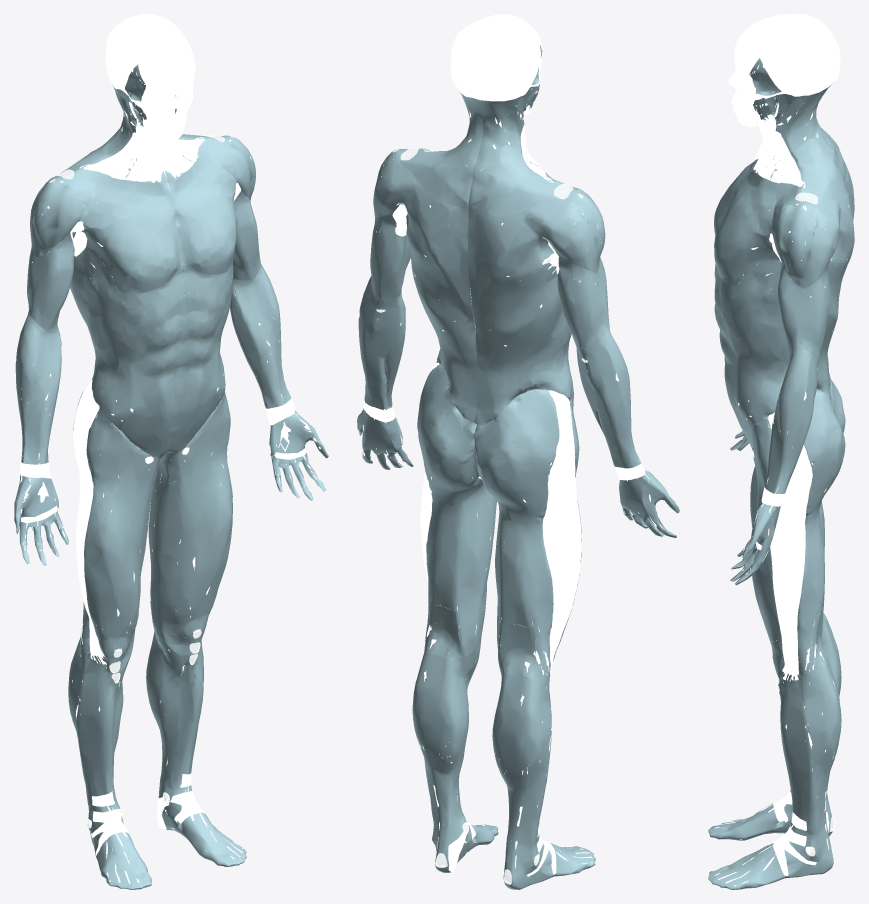
Rendered from muscular.lod1.glb.
3 renders of one model, left to right at view 1: azimuth 30°, elevation 25°; view 2: azimuth 150°, elevation 25°; view 3: azimuth 270°, elevation 25°, orthographic. The views are drawn at different scales.
Visible parts, largest first — view 1: Investing abdominal fascia.r, Fascia lata.l, Fascia lata.r, Crural fascia.l, Crural fascia.r, Pectoral fascia.r, Investing abdominal fascia.l, Pectoral fascia.l, Antebrachial fascia.r, Antebrachial fascia.l, Deltoid fascia.r, Brachial fascia.r (+13 smaller); view 2: Investing abdominal fascia.r, Fascia lata.r, Fascia lata.l, Crural fascia.r, Investing abdominal fascia.l, Crural fascia.l, Superficial investing cervical fascia.r, Iliotibial tract.r, Antebrachial fascia.r, Antebrachial fascia.l, Deltoid fascia.r, Superficial investing cervical fascia.l (+11 smaller); view 3: Investing abdominal fascia.l, Crural fascia.l, Fascia lata.l, Iliotibial tract.l, Deltoid fascia.l, Pectoral fascia.l, Superficial investing cervical fascia.l, Antebrachial fascia.l, Brachial fascia.l, Epicranial aponeurosis.l, Crural fascia.r, Temporoparietalis muscle.l (+13 smaller).
Boxes of the visible parts, x1=… form: Investing abdominal fascia.r: x1=70, y1=239, x2=184, y2=457; Fascia lata.l: x1=148, y1=392, x2=232, y2=638; Fascia lata.r: x1=72, y1=391, x2=165, y2=658; Crural fascia.l: x1=146, y1=622, x2=246, y2=866; Crural fascia.r: x1=68, y1=638, x2=151, y2=889; Pectoral fascia.r: x1=78, y1=178, x2=182, y2=294; Investing abdominal fascia.l: x1=167, y1=263, x2=233, y2=452; Pectoral fascia.l: x1=167, y1=158, x2=237, y2=274; Antebrachial fascia.r: x1=15, y1=315, x2=61, y2=464; Antebrachial fascia.l: x1=230, y1=263, x2=291, y2=408; Deltoid fascia.r: x1=30, y1=169, x2=113, y2=257; Brachial fascia.r: x1=27, y1=232, x2=74, y2=329; Investing abdominal fascia.r: x1=467, y1=207, x2=573, y2=426; Fascia lata.r: x1=473, y1=389, x2=581, y2=677; Fascia lata.l: x1=417, y1=364, x2=496, y2=657; Crural fascia.r: x1=492, y1=666, x2=595, y2=889; Investing abdominal fascia.l: x1=401, y1=177, x2=476, y2=424; Crural fascia.l: x1=412, y1=650, x2=498, y2=872; Superficial investing cervical fascia.r: x1=468, y1=86, x2=570, y2=216; Iliotibial tract.r: x1=542, y1=390, x2=581, y2=677; Antebrachial fascia.r: x1=575, y1=330, x2=641, y2=468; Antebrachial fascia.l: x1=358, y1=277, x2=405, y2=410; Deltoid fascia.r: x1=521, y1=173, x2=605, y2=274; Superficial investing cervical fascia.l: x1=399, y1=91, x2=483, y2=208; Investing abdominal fascia.l: x1=714, y1=195, x2=854, y2=448; Crural fascia.l: x1=708, y1=657, x2=841, y2=889; Fascia lata.l: x1=751, y1=389, x2=845, y2=674; Iliotibial tract.l: x1=768, y1=412, x2=812, y2=682; Deltoid fascia.l: x1=771, y1=183, x2=843, y2=288; Pectoral fascia.l: x1=714, y1=171, x2=776, y2=285; Superficial investing cervical fascia.l: x1=752, y1=83, x2=848, y2=205; Antebrachial fascia.l: x1=764, y1=348, x2=820, y2=493; Brachial fascia.l: x1=777, y1=261, x2=829, y2=357; Epicranial aponeurosis.l: x1=738, y1=18, x2=840, y2=77; Crural fascia.r: x1=708, y1=618, x2=841, y2=840; Temporoparietalis muscle.l: x1=759, y1=46, x2=821, y2=96.
Bounding box in the file's own units: 0.6707 × 1.7 × 0.2686.
